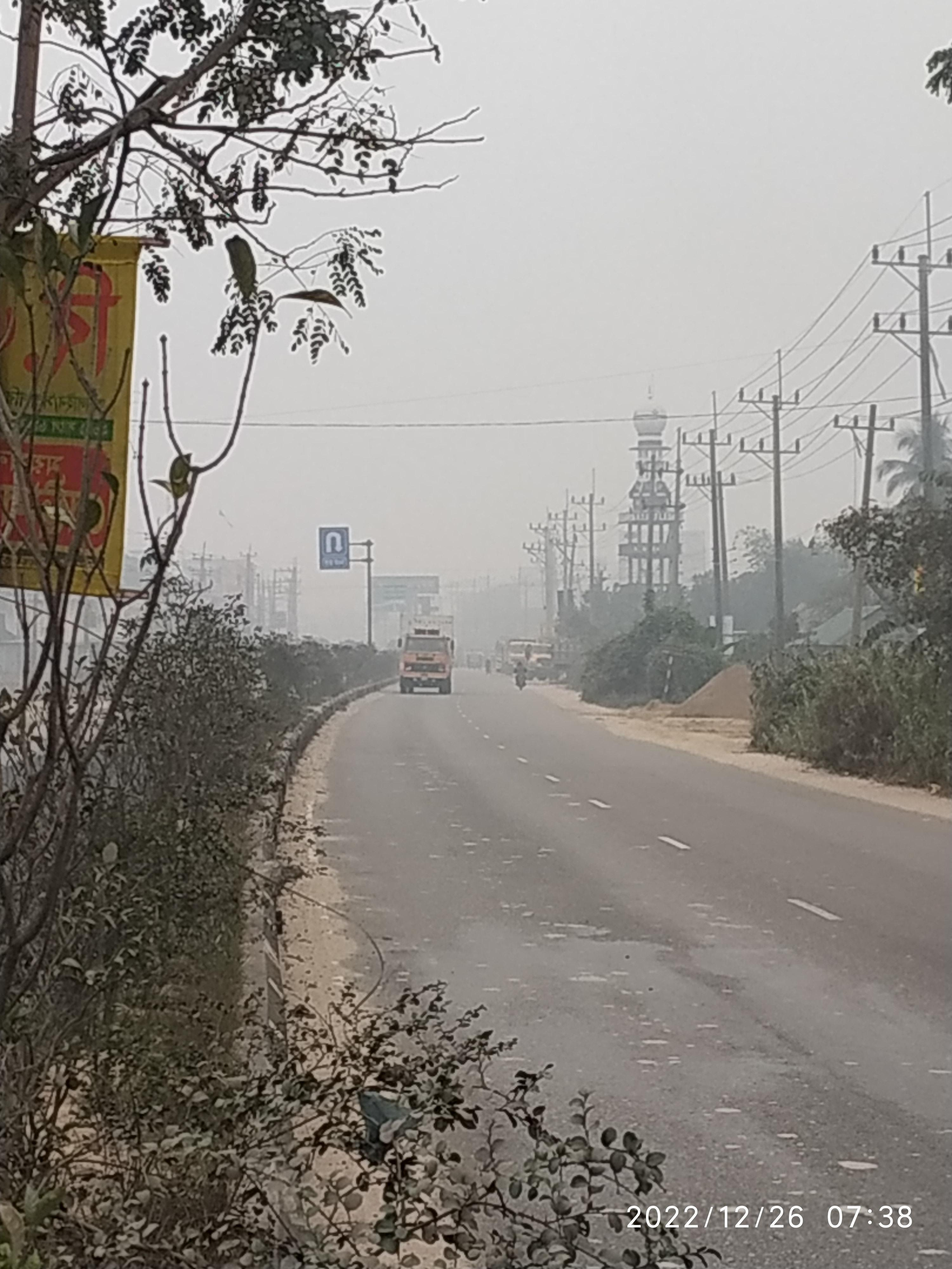Bike: (496, 653, 551, 700)
Truck: (386, 622, 473, 708)
